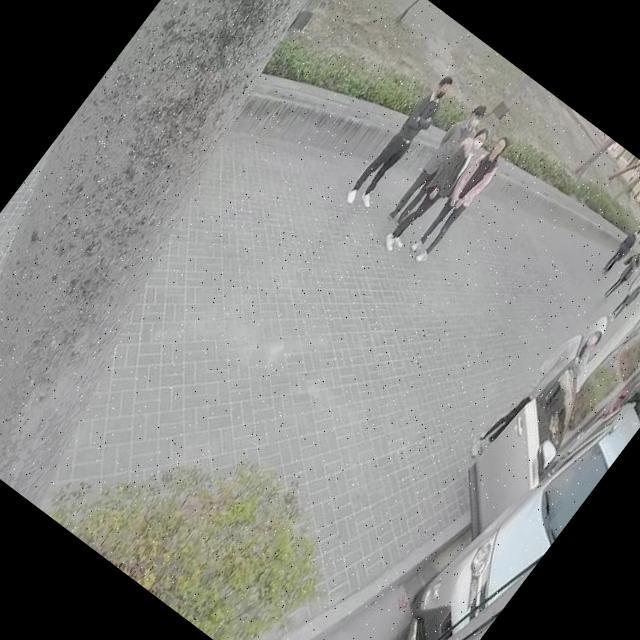person: (466, 298, 616, 477), (344, 70, 461, 214), (380, 116, 496, 258), (404, 128, 518, 266), (384, 95, 491, 226), (600, 241, 640, 304), (598, 219, 640, 278), (608, 261, 640, 323)
